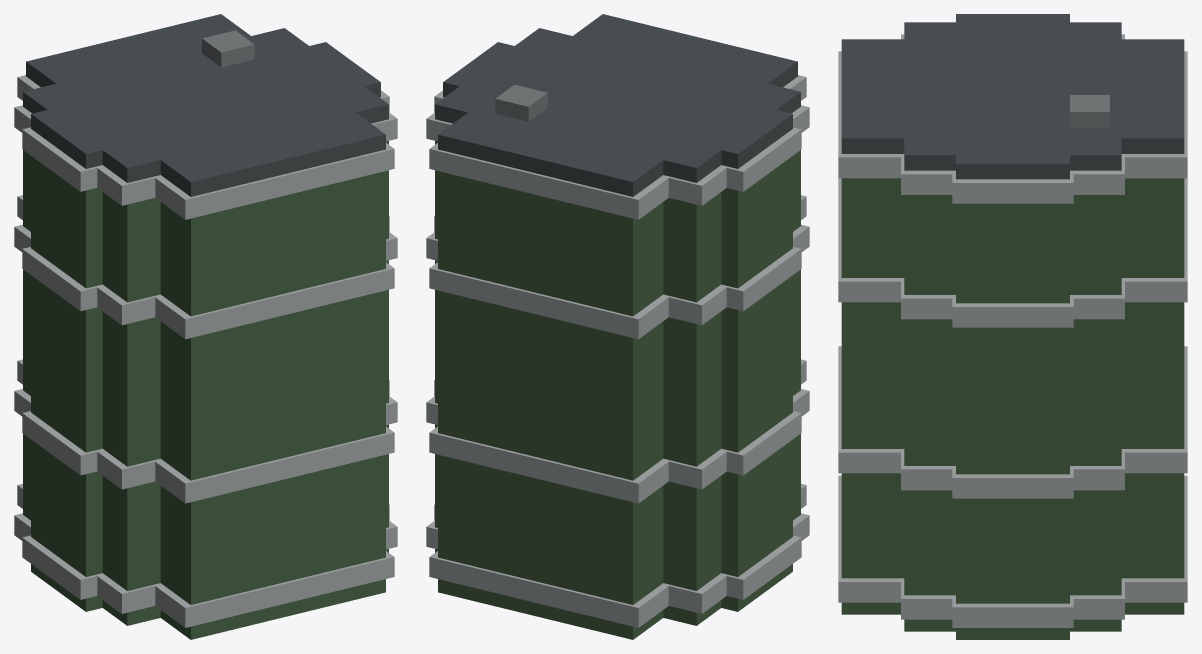
Rendered from CMU3DBarrelGreen.glb.
3 views of the same model, side by side, from view 1: azimuth 30°, elevation 25°; view 2: azimuth 150°, elevation 25°; view 3: azimuth 270°, elevation 25° (orthographic). The views are drawn at different scales.
Visible parts, largest first — view 1: curved body segment 1, curved body segment 3, stepped hoop segment 1 (×4), curved body segment 2, lid segment 3, lid segment 1, stepped hoop segment 3 (×4), lid segment 2, stepped hoop segment 2 (×4), lid segment 5, lid segment 4, curved body segment 4 (+1 smaller); view 2: curved body segment 5, curved body segment 3, stepped hoop segment 5 (×4), curved body segment 4, lid segment 3, lid segment 5, stepped hoop segment 3 (×4), stepped hoop segment 4 (×4), lid segment 4, lid segment 2, lid segment 1, curved body segment 2 (+1 smaller); view 3: curved body segment 3, curved body segment 1, curved body segment 5, curved body segment 2, curved body segment 4, lid segment 3, stepped hoop segment 3 (×4), stepped hoop segment 1 (×4), stepped hoop segment 5 (×4), lid segment 2, lid segment 1, lid segment 5 (+4 smaller).
Part boxes in pixels (box(x1,y1,x2,y2)): curved body segment 1: box(160, 171, 385, 639); curved body segment 3: box(31, 156, 102, 611); stepped hoop segment 1 (×4): box(154, 143, 394, 627); curved body segment 2: box(102, 141, 388, 625); lid segment 3: box(31, 42, 380, 168); lid segment 1: box(160, 112, 385, 196); stepped hoop segment 3 (×4): box(22, 90, 389, 599); lid segment 2: box(102, 86, 388, 182); stepped hoop segment 2 (×4): box(96, 112, 397, 613); lid segment 5: box(26, 14, 250, 87); lid segment 4: box(23, 28, 308, 113); curved body segment 4: box(23, 150, 30, 520); curved body segment 5: box(438, 171, 663, 639); curved body segment 3: box(721, 156, 792, 611); stepped hoop segment 5 (×4): box(429, 143, 669, 627); curved body segment 4: box(435, 141, 721, 625); lid segment 3: box(443, 42, 792, 168); lid segment 5: box(438, 112, 663, 196); stepped hoop segment 3 (×4): box(434, 90, 801, 599); stepped hoop segment 4 (×4): box(426, 112, 727, 613); lid segment 4: box(435, 86, 721, 182); lid segment 2: box(515, 28, 800, 113); lid segment 1: box(573, 14, 797, 87); curved body segment 2: box(793, 150, 800, 520); curved body segment 3: box(956, 203, 1069, 639); curved body segment 1: box(841, 178, 904, 614); curved body segment 5: box(1121, 178, 1184, 614); curved body segment 2: box(904, 195, 955, 631); curved body segment 4: box(1070, 195, 1121, 631); lid segment 3: box(956, 14, 1069, 179); stepped hoop segment 3 (×4): box(952, 170, 1073, 627); stepped hoop segment 1 (×4): box(838, 51, 904, 602); stepped hoop segment 5 (×4): box(1122, 51, 1187, 602); lid segment 2: box(904, 22, 955, 170); lid segment 1: box(841, 39, 904, 153); lid segment 5: box(1121, 39, 1184, 153).
Size of the model in its own units: 0.65 by 0.95 by 0.612.
